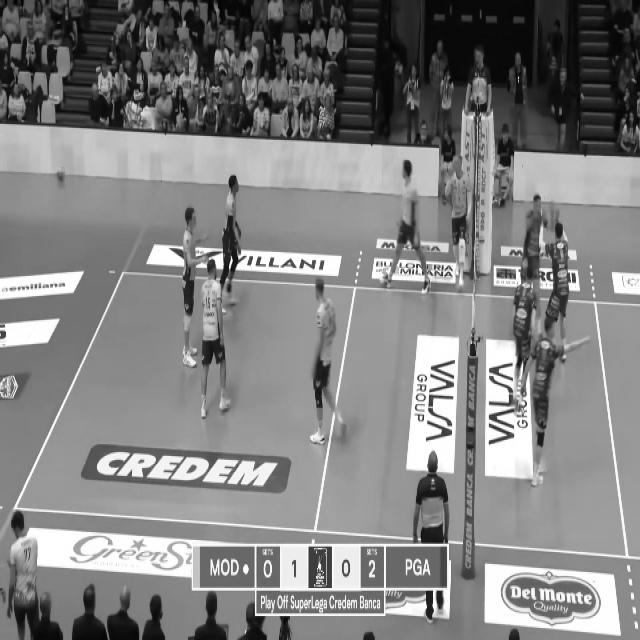volleyball court: (11, 269, 638, 556)
